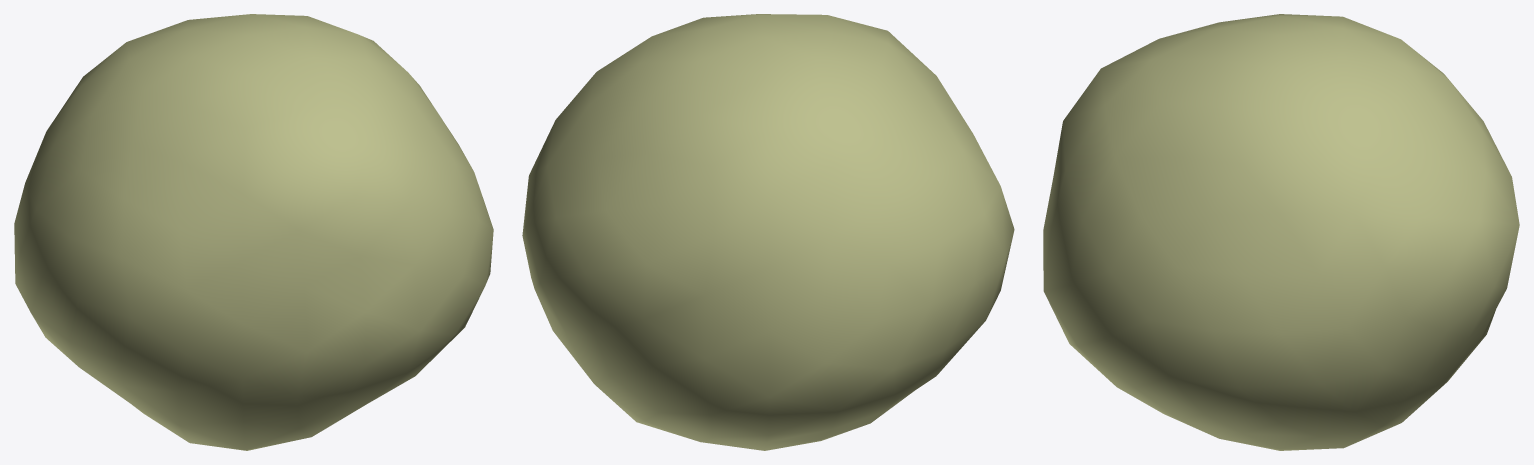
The model's file is NPR_07_3001__MOD__VegetationElements__Grasses__OrnamentalGrass__Var-01__.glb.
The picture shows the model from 3 angles, left to right: view 1: azimuth 30°, elevation 25°; view 2: azimuth 150°, elevation 25°; view 3: azimuth 270°, elevation 25°; orthographic projection. The views are drawn at different scales.
Visible parts, largest first — view 1: NPR_07_3001__MOD__VegetationElements__Grasses__OrnamentalGra; view 2: NPR_07_3001__MOD__VegetationElements__Grasses__OrnamentalGra; view 3: NPR_07_3001__MOD__VegetationElements__Grasses__OrnamentalGra.
Boxes of the visible parts, x1,y1,x2,y2 form: NPR_07_3001__MOD__VegetationElements__Grasses__OrnamentalGra: (14, 14, 493, 450); NPR_07_3001__MOD__VegetationElements__Grasses__OrnamentalGra: (522, 14, 1014, 450); NPR_07_3001__MOD__VegetationElements__Grasses__OrnamentalGra: (1043, 14, 1519, 450).
Size of the model in its own units: 0.6083 by 0.5483 by 0.5945.
